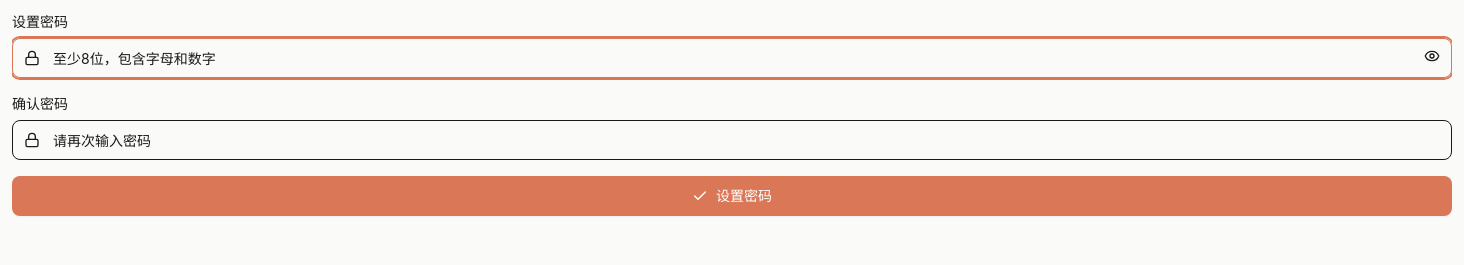
Test: SetPasswordForm 组件 › 输入密码后显示强度指示器
This screenshot has width=1464, height=265.
输入密码后渲染强度指示器
In the password field with placeholder "至少8位，包含字母和数字": (732, 58) [12,38,1452,78], type "abcd1234"
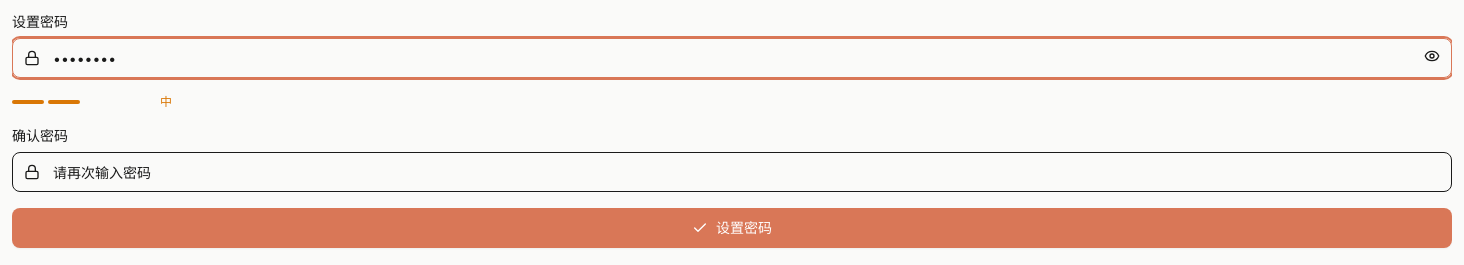
Result: the element with class "mt-2" is shown at [12,94,172,109]
